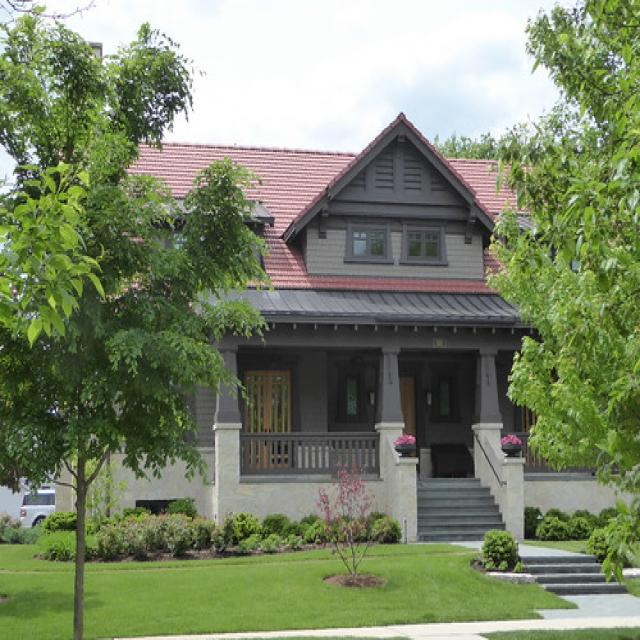Normal_building: (46, 108, 604, 552)
